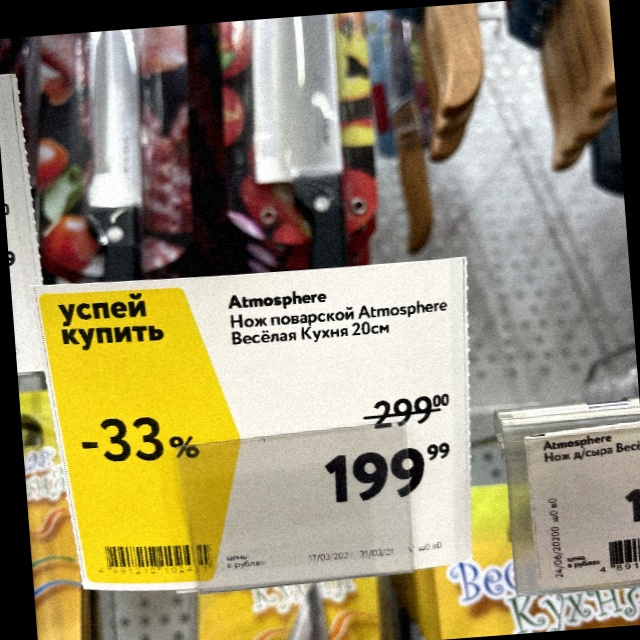barcode: (97, 543, 218, 578)
name: (221, 287, 454, 345)
price: (321, 435, 460, 512)
price_tag: (46, 257, 468, 588)
